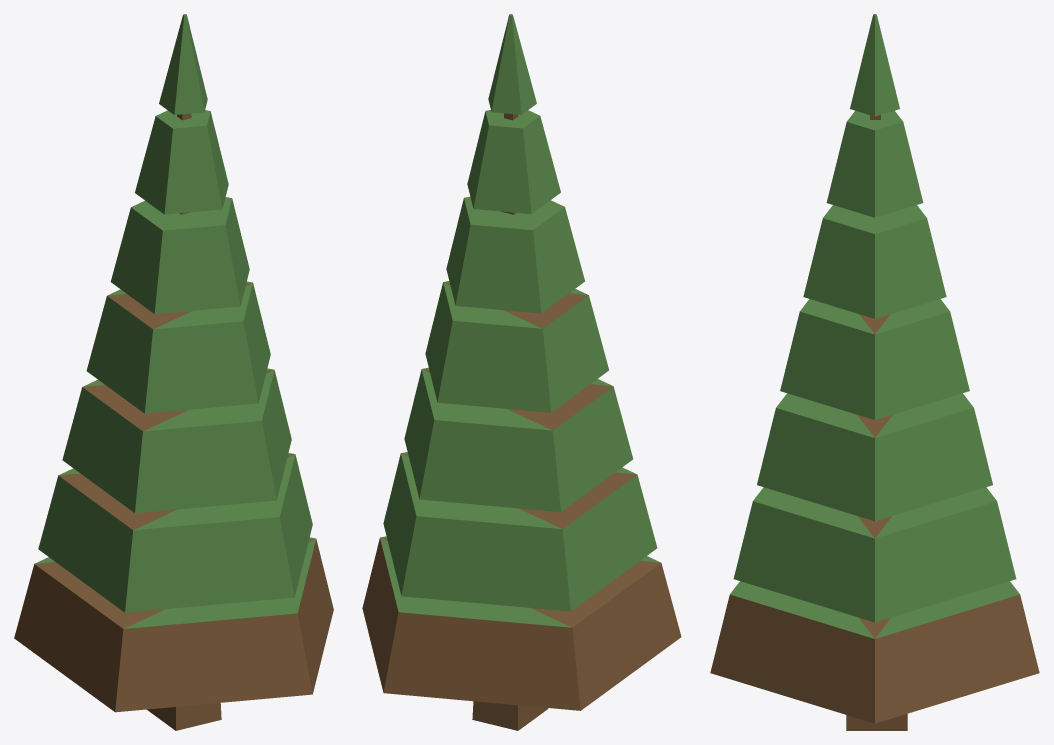
Rendered from tree3d-163.glb.
The picture shows the model from 3 angles, left to right: view 1: azimuth 30°, elevation 25°; view 2: azimuth 150°, elevation 25°; view 3: azimuth 270°, elevation 25°; orthographic projection.
Visible parts, largest first — view 1: tree3d-163; view 2: tree3d-163; view 3: tree3d-163.
Boxes of the visible parts, bbox=[...] form: tree3d-163: bbox=[14, 14, 333, 730]; tree3d-163: bbox=[362, 14, 681, 730]; tree3d-163: bbox=[710, 14, 1039, 730].
Bounding box in the file's own units: 0.4025 × 1 × 0.4232.
